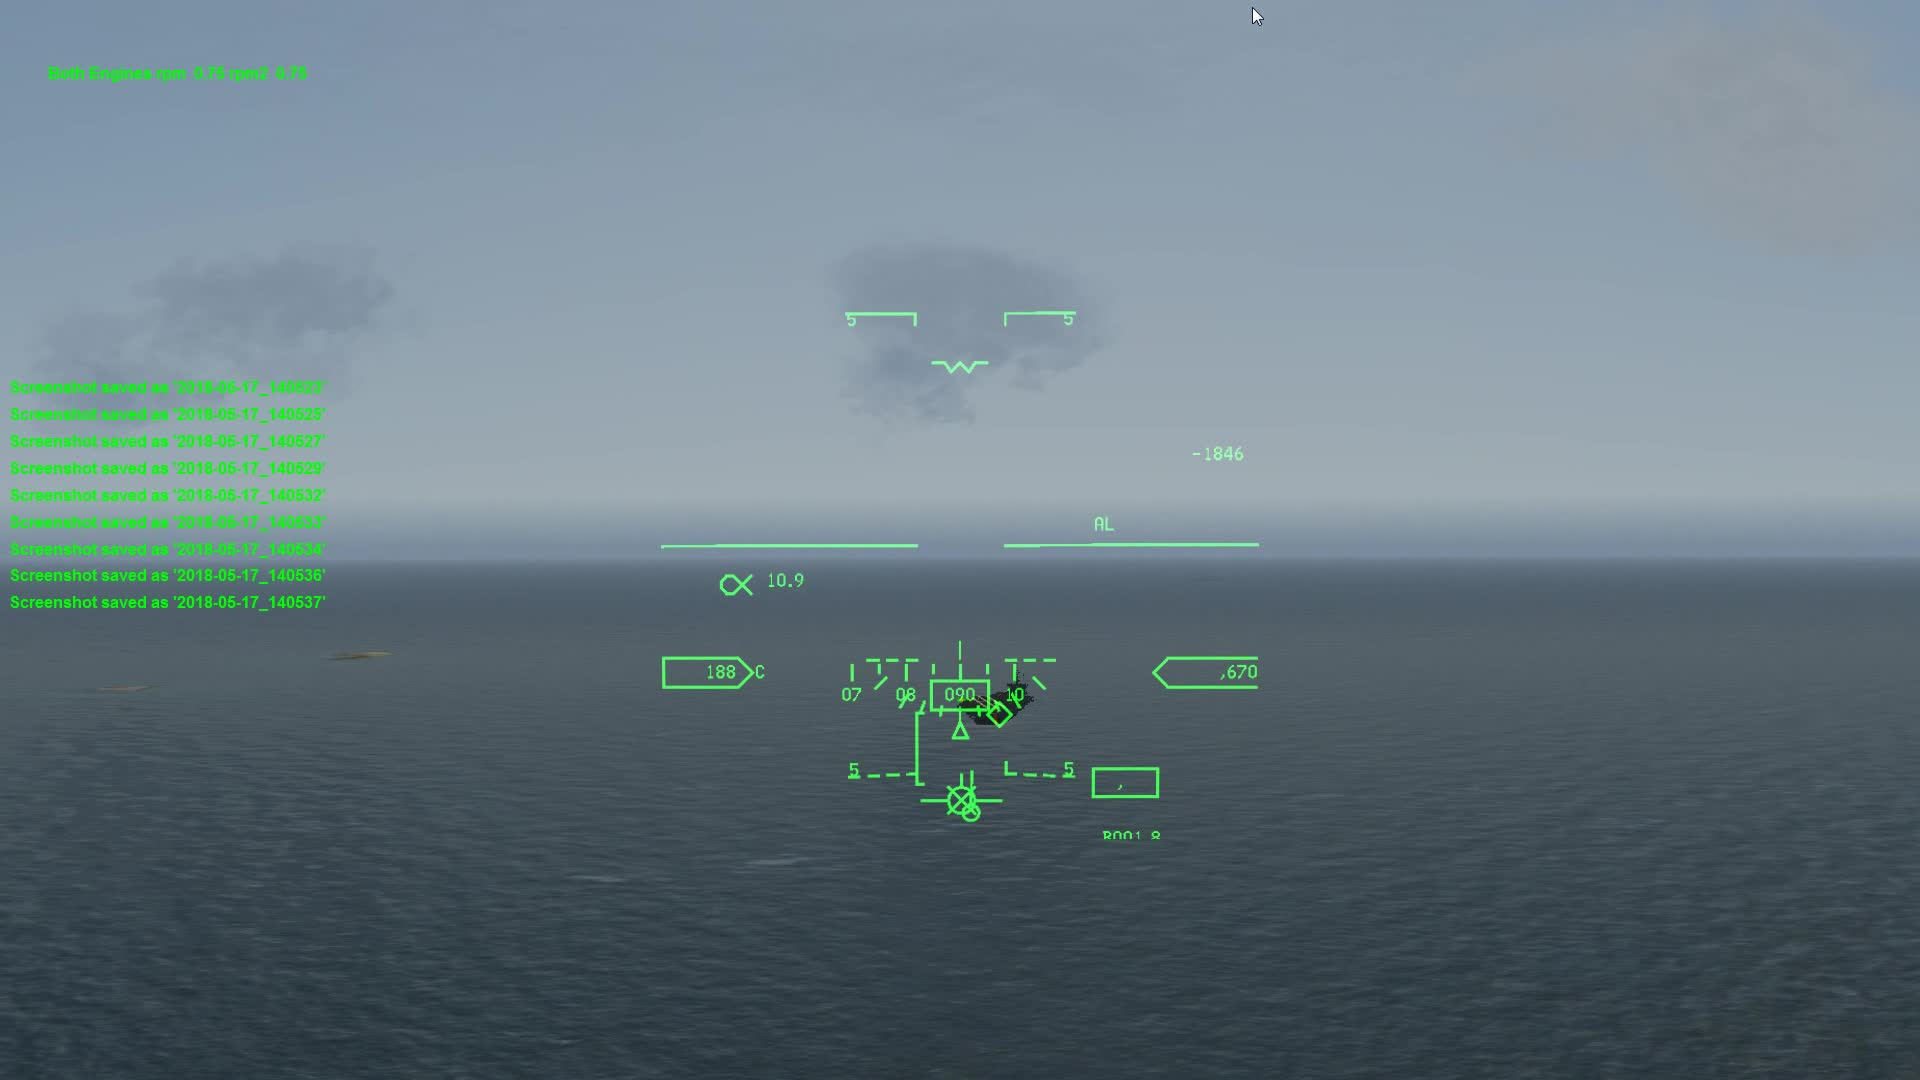speed vector: (920, 771, 1002, 828)
